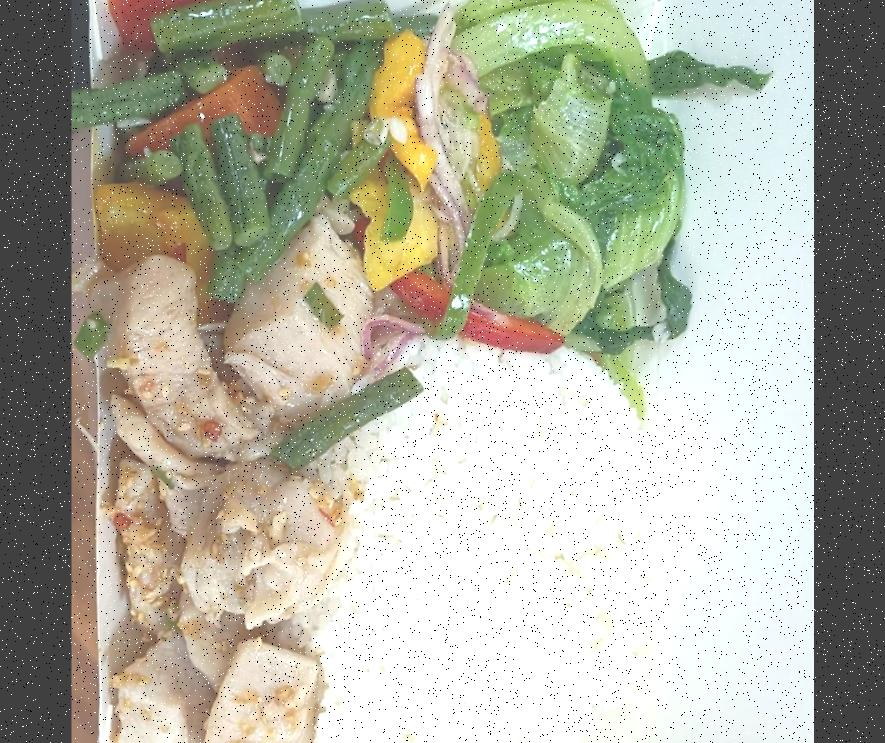box: (74, 0, 658, 743)
scallion chicken: (102, 235, 377, 743)
side dish: (99, 0, 395, 275), (467, 0, 687, 343), (362, 1, 499, 332)
white rice: (315, 342, 654, 743)
